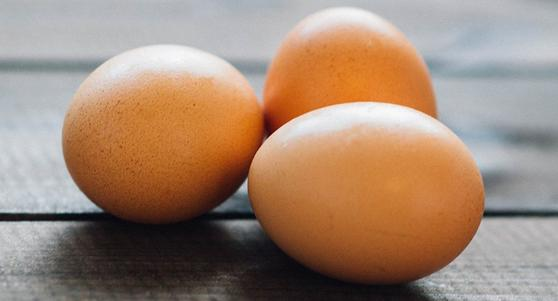egg: (245, 103, 487, 286), (59, 47, 263, 219)
